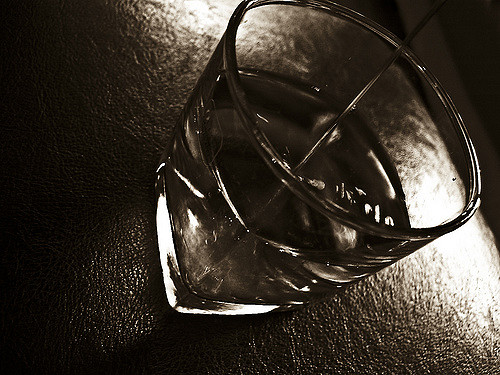glass of water: (213, 9, 368, 294)
